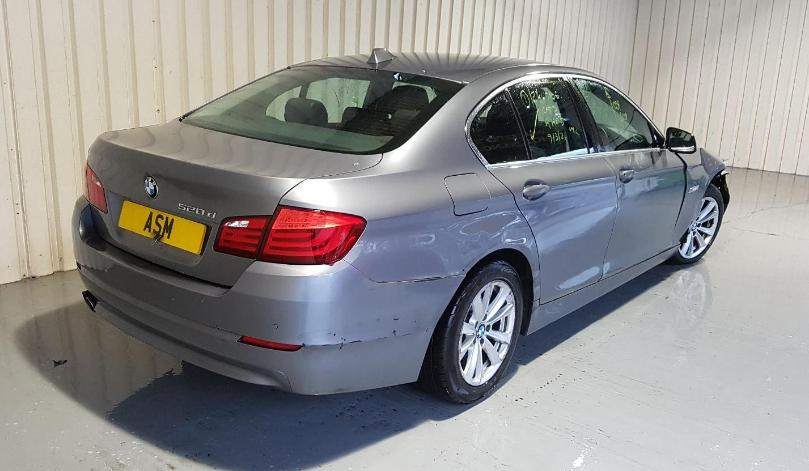Back-bumper: (72, 196, 463, 396)
Back-door: (464, 73, 618, 305)
Back-wheel: (414, 258, 523, 405)
Back-window: (469, 78, 592, 164)
Back-windshield: (181, 66, 464, 155)
Fender: (671, 146, 726, 248)
Front-door: (567, 73, 687, 279)
Front-wheel: (666, 183, 724, 265)
Front-window: (572, 79, 664, 151)
License-plate: (118, 199, 206, 255)
Mirror: (665, 127, 697, 155)
Quarter-panel: (278, 146, 540, 303)
Rocker-panel: (526, 245, 679, 336)
Roof: (290, 51, 593, 84)
Tail-light: (255, 205, 366, 265), (214, 216, 272, 260), (85, 161, 108, 213)
Trunk: (88, 117, 382, 286)
